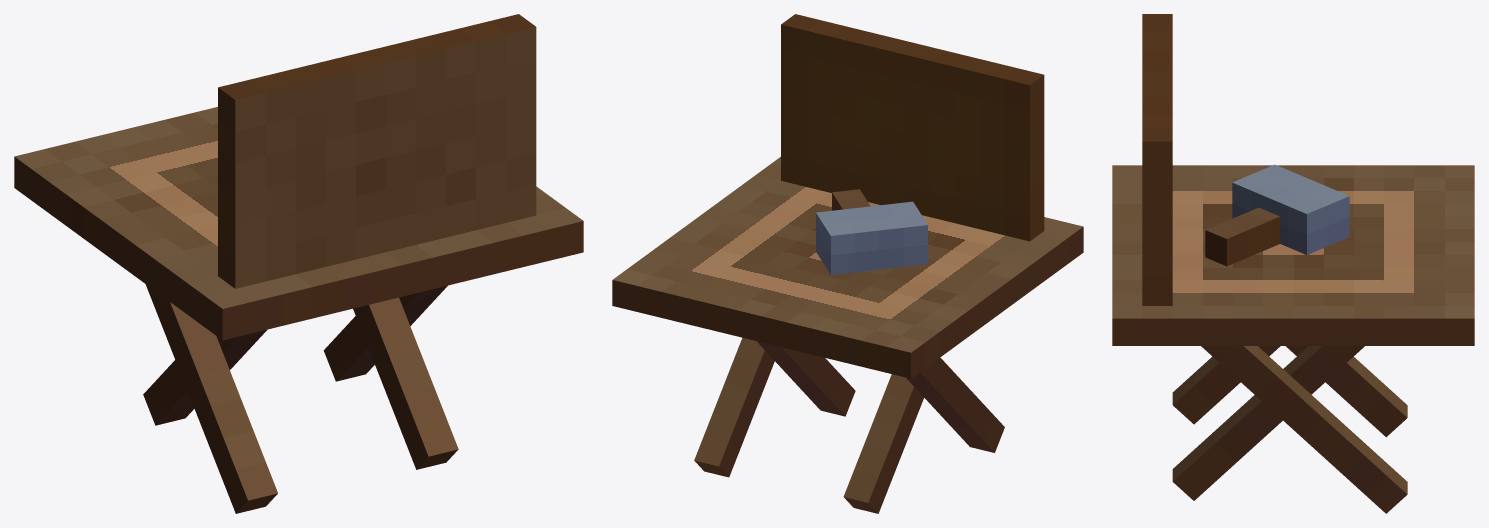
The model's file is WorkstationT1.glb.
3 renders of one model, left to right at view 1: azimuth 30°, elevation 25°; view 2: azimuth 150°, elevation 25°; view 3: azimuth 270°, elevation 25°, orthographic. The views are drawn at different scales.
Visible parts, largest first — view 1: workstation_t1; view 2: workstation_t1, hammer; view 3: workstation_t1, hammer.
Part boxes in pixels (<box>): workstation_t1: <box>14,14,583,513</box>; workstation_t1: <box>612,14,1083,513</box>; hammer: <box>816,189,927,274</box>; workstation_t1: <box>1112,14,1474,513</box>; hammer: <box>1205,164,1349,266</box>.
Size of the model in its own units: 0.75 by 0.8794 by 0.75.
1 material, 1 textured.
